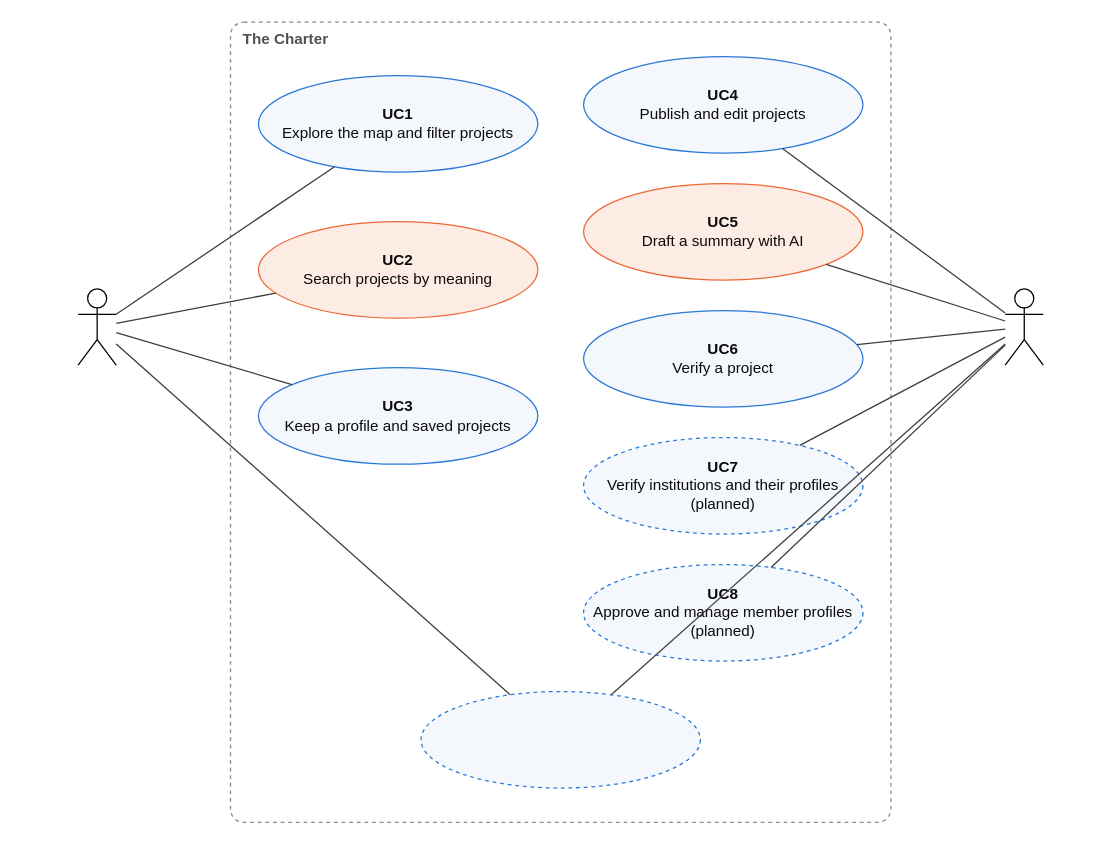
The diagram is 1102 pixels wide and 845 high, and some of its shapes have lost their labels. Here are the shapes that lost their labels. From the top down, the centre of each, then its label:
At (x=96, y=326): "Member (student, researcher, faculty, journalist)".
At (x=1023, y=326): "Administrator (curator, editor)".
At (x=560, y=739): "UC9 Sign in with an email code (planned)".
